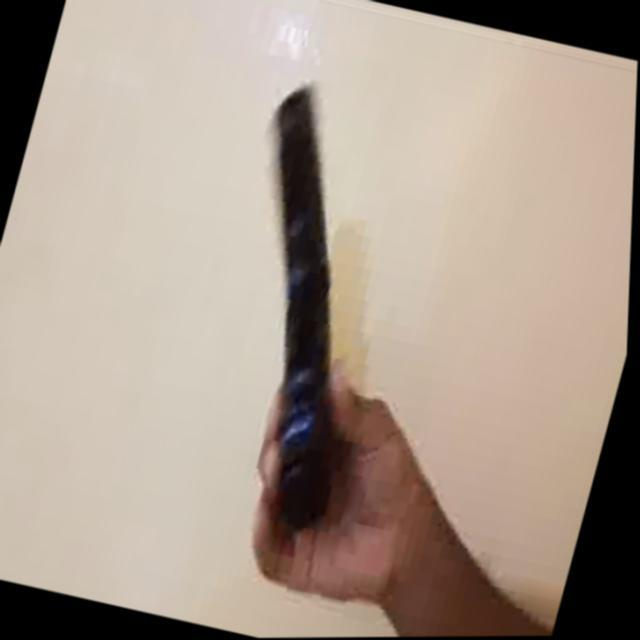weapon: (174, 76, 440, 538)
